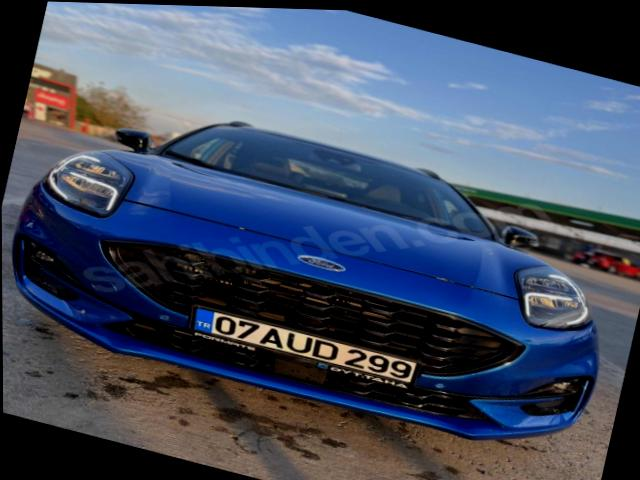plaka: (191, 307, 417, 382)
